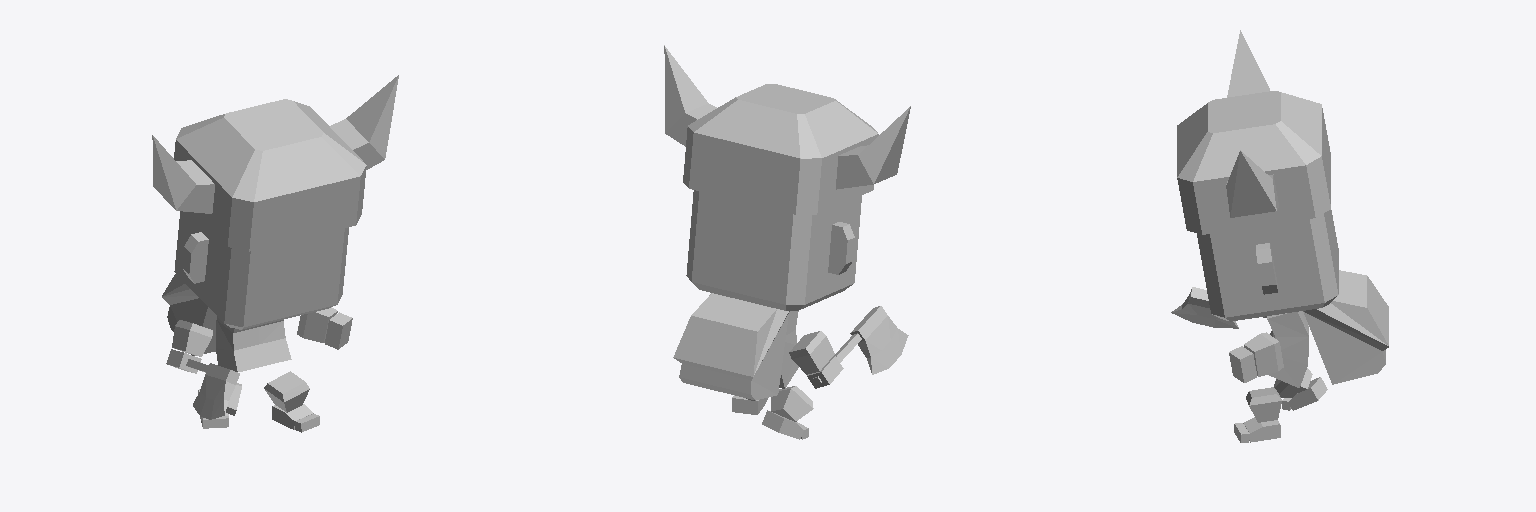
File: mini_knight_000010.obj
The picture shows the model from 3 angles: view 1: azimuth 30°, elevation 25°; view 2: azimuth 150°, elevation 25°; view 3: azimuth 270°, elevation 25°; orthographic projection.
Visible parts, largest first — view 1: cap_Object01_Material__3, Mesh_objheadusOBJexport_Material, axe_Object02_Material__3, back_Object03_Material__3; view 2: cap_Object01_Material__3, Mesh_objheadusOBJexport_Material, back_Object03_Material__3, axe_Object02_Material__3; view 3: cap_Object01_Material__3, Mesh_objheadusOBJexport_Material, back_Object03_Material__3, axe_Object02_Material__3.
Part boxes in pixels (bbox=[...]): cap_Object01_Material__3: bbox=[152, 75, 398, 251]; Mesh_objheadusOBJexport_Material: bbox=[166, 211, 352, 432]; axe_Object02_Material__3: bbox=[186, 359, 239, 419]; back_Object03_Material__3: bbox=[162, 274, 216, 355]; cap_Object01_Material__3: bbox=[664, 45, 910, 214]; Mesh_objheadusOBJexport_Material: bbox=[686, 190, 861, 439]; back_Object03_Material__3: bbox=[673, 293, 789, 400]; axe_Object02_Material__3: bbox=[813, 306, 908, 384]; cap_Object01_Material__3: bbox=[1177, 30, 1330, 234]; Mesh_objheadusOBJexport_Material: bbox=[1197, 210, 1338, 442]; back_Object03_Material__3: bbox=[1303, 270, 1388, 384]; axe_Object02_Material__3: bbox=[1171, 287, 1266, 328].
Bounding box in the file's own units: 1.94 × 2.49 × 1.49.